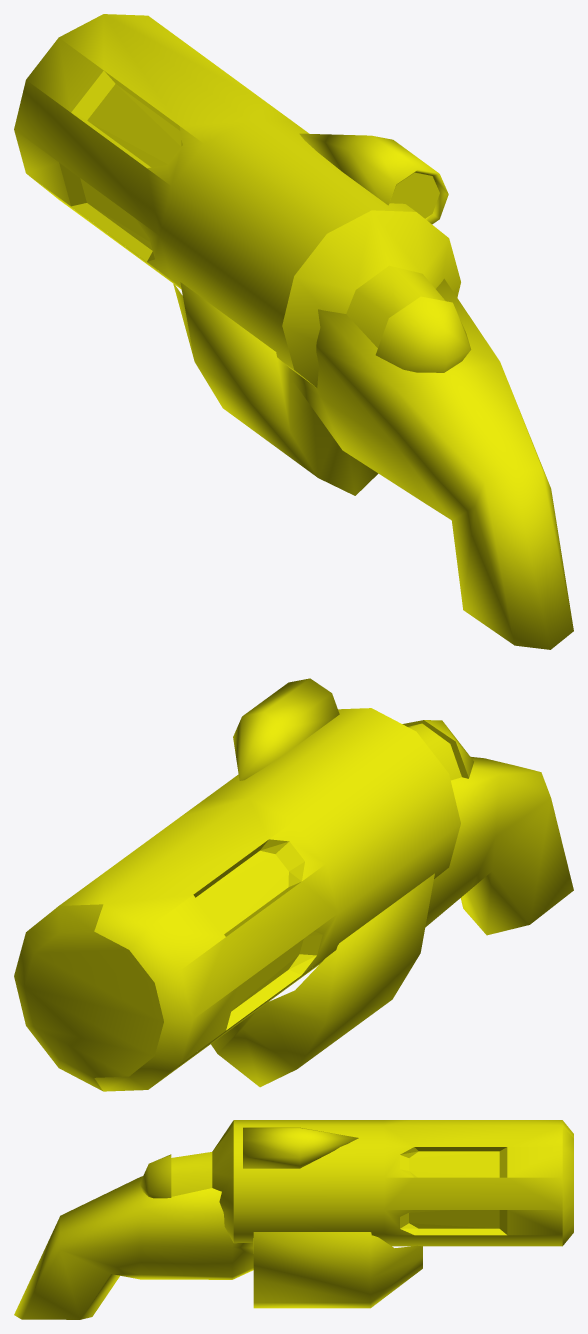
File: energy.glb
3 renders of one model, top to bottom at view 1: azimuth 30°, elevation 25°; view 2: azimuth 150°, elevation 25°; view 3: azimuth 270°, elevation 25°, orthographic. The views are drawn at different scales.
Parts seen in each view (by area): view 1: ref1; view 2: ref1; view 3: ref1.
Part boxes in pixels (x1,y1,x2,y2): ref1: [14, 14, 573, 649]; ref1: [14, 678, 573, 1091]; ref1: [14, 1120, 573, 1319].
Size of the model in its own units: 0.00572 by 0.0102 by 0.0253.
Materials: 1 (1 with a texture image).
